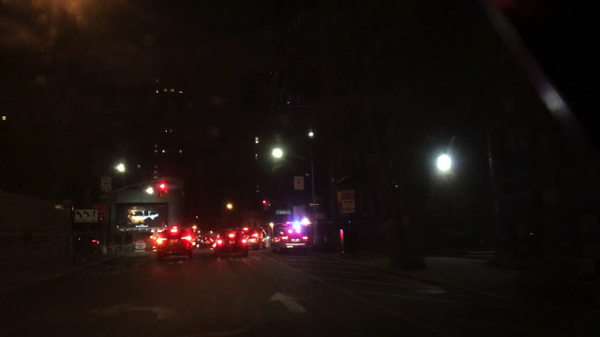car: (156, 229, 194, 262), (269, 227, 310, 254), (214, 229, 250, 259), (245, 229, 269, 250), (91, 237, 113, 250), (192, 236, 213, 249)
traffic light: (159, 183, 166, 195)
traffic sign: (74, 210, 98, 223), (342, 191, 355, 214), (93, 204, 110, 218), (102, 176, 112, 192), (294, 176, 304, 191), (276, 211, 291, 215), (261, 200, 267, 209), (266, 201, 272, 210), (99, 195, 112, 199), (316, 213, 324, 219), (310, 204, 320, 208), (314, 197, 323, 200)
